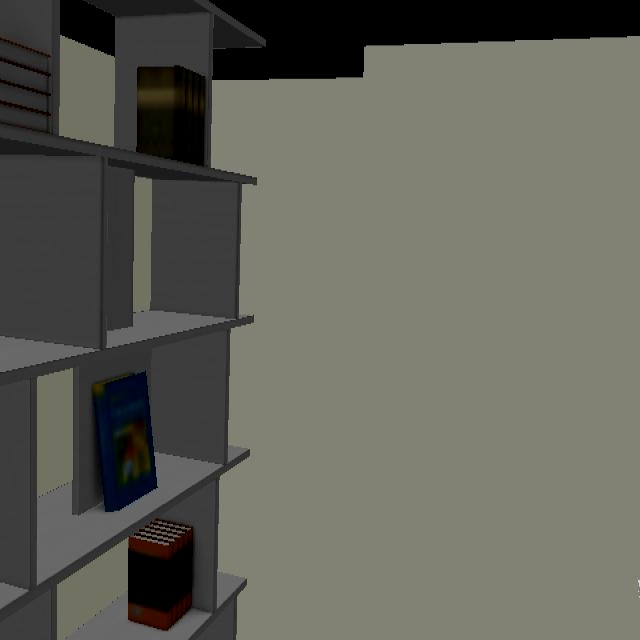book: (87, 371, 158, 515), (126, 519, 196, 632), (135, 64, 210, 168), (0, 36, 52, 135)
bookshelf: (108, 149, 257, 469)
shelf: (64, 483, 247, 640)
